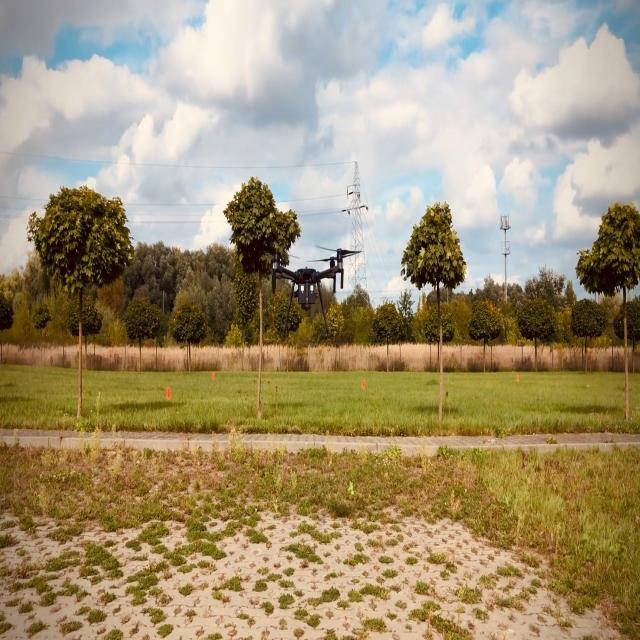drone: (270, 244, 362, 341)
